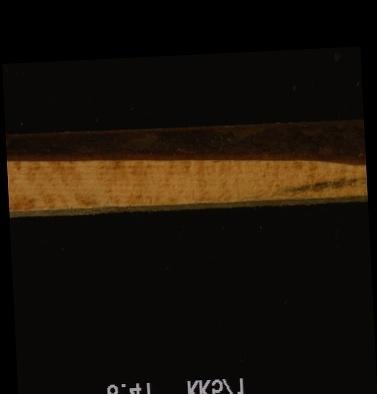wave: (6, 126, 364, 175)
